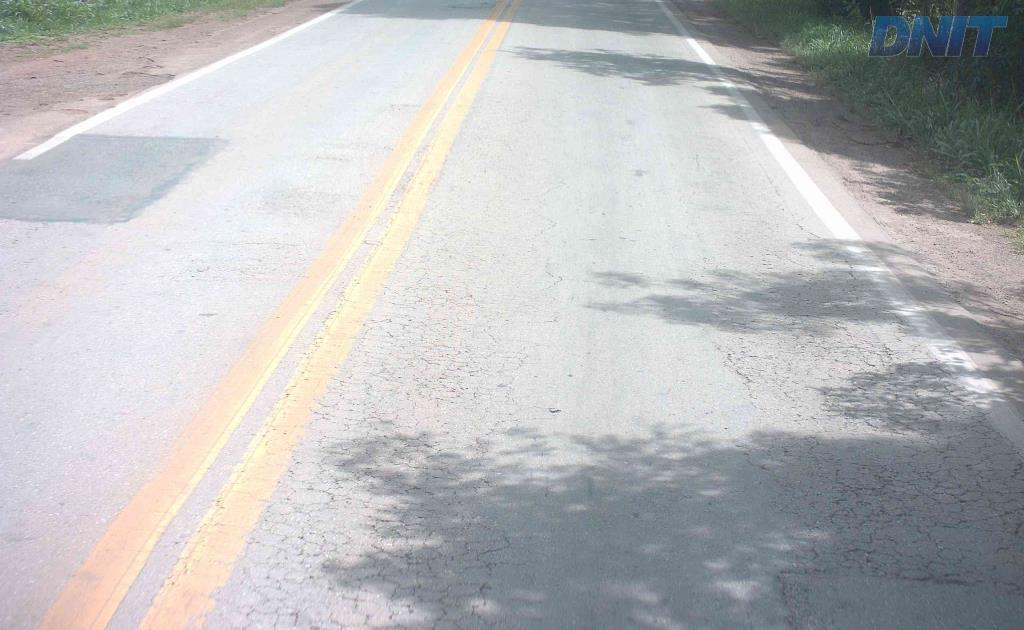crack: (780, 334, 852, 357), (326, 581, 376, 613)
